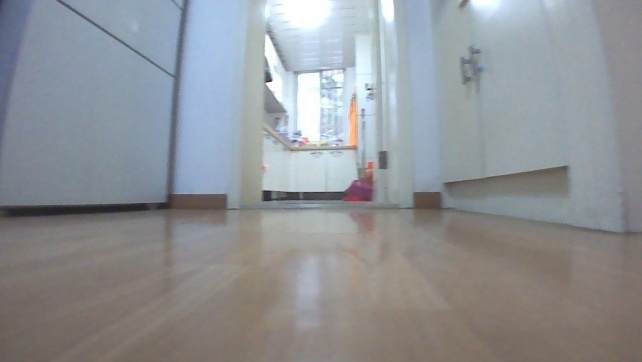cupboard: (261, 121, 361, 200)
refrigerator1: (0, 0, 187, 212)
